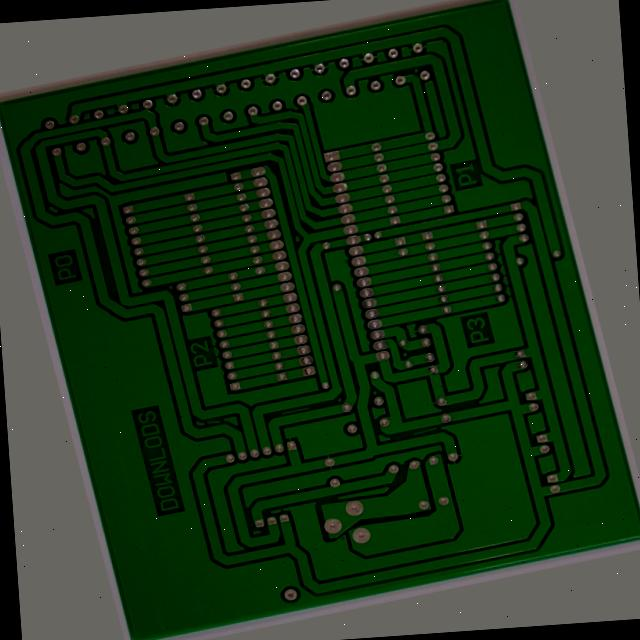spurious_copper: (400, 448, 435, 465), (249, 409, 293, 422), (163, 409, 186, 423)
